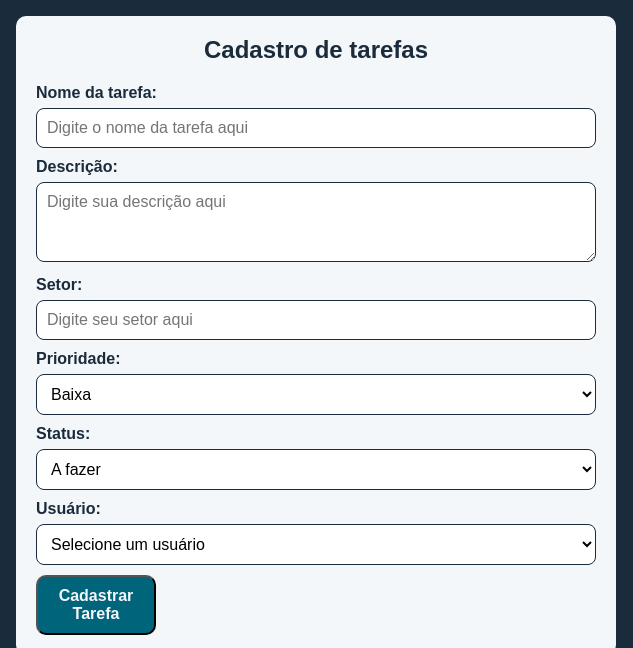
Scenario: Teste do componente CadTarefa › Deve validar campos obrigatórios e mostrar erros (Zod)
Click the button "Cadastrar Tarefa".
click(96, 605)  # box [36,575,156,635]
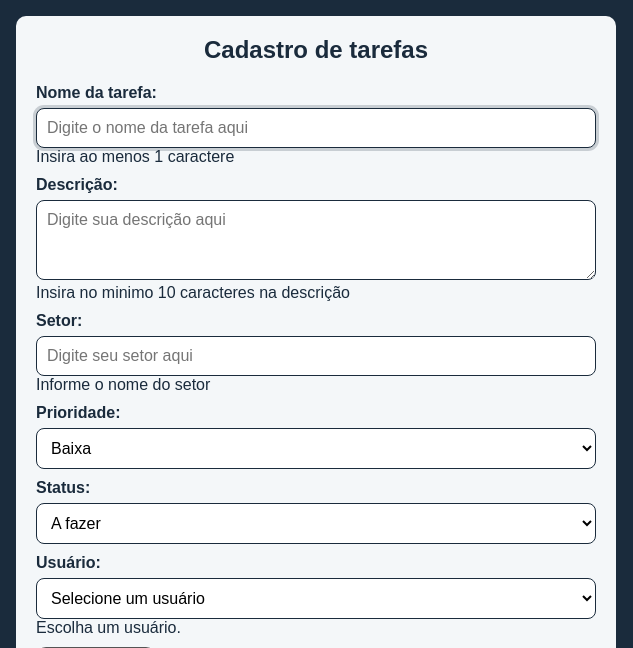
Expected: the text "Insira ao menos 1 caractere" is shown, [36,148,234,165]
Expected: the text "Insira no minimo 10 caracteres na descrição" is shown, [36,284,350,301]
Expected: the text "Informe o nome do setor" is shown, [36,376,210,393]
